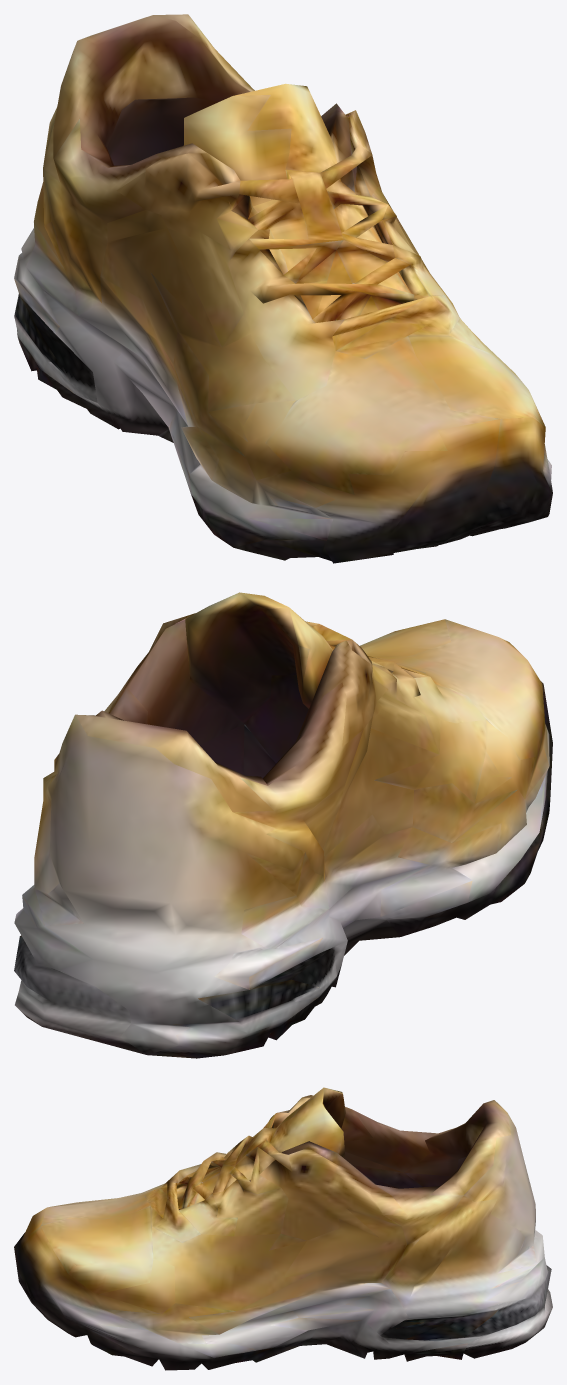
The model's file is tenis-dourado.glb.
The picture shows the model from 3 angles, top to bottom: view 1: azimuth 30°, elevation 25°; view 2: azimuth 150°, elevation 25°; view 3: azimuth 270°, elevation 25°; orthographic projection. The views are drawn at different scales.
Visible parts, largest first — view 1: tripo_node_a084e825-eb31-4522-84cd-b82c90fb4556; view 2: tripo_node_a084e825-eb31-4522-84cd-b82c90fb4556; view 3: tripo_node_a084e825-eb31-4522-84cd-b82c90fb4556.
Boxes of the visible parts, box(x1,y1,x2,y2) form: tripo_node_a084e825-eb31-4522-84cd-b82c90fb4556: box(14, 14, 552, 563); tripo_node_a084e825-eb31-4522-84cd-b82c90fb4556: box(14, 592, 552, 1058); tripo_node_a084e825-eb31-4522-84cd-b82c90fb4556: box(14, 1087, 552, 1370).
Bounding box in the file's own units: 0.4276 × 0.4685 × 1.
Materials: 1 (1 with a texture image).
